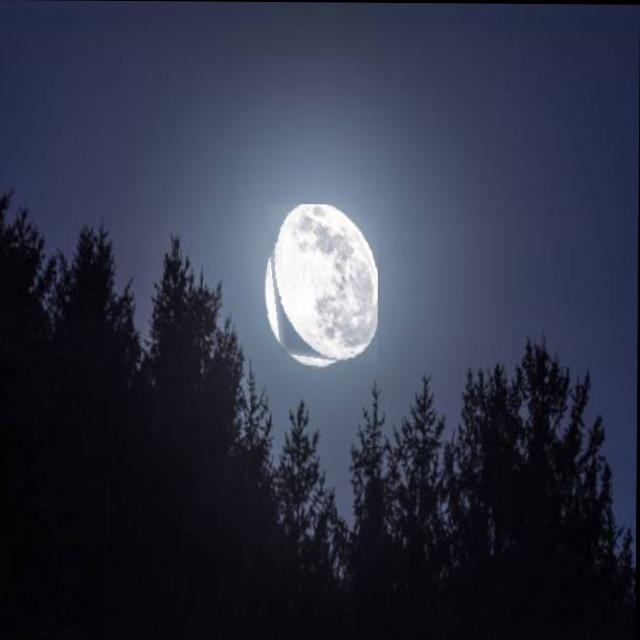moon: (262, 204, 379, 368)
